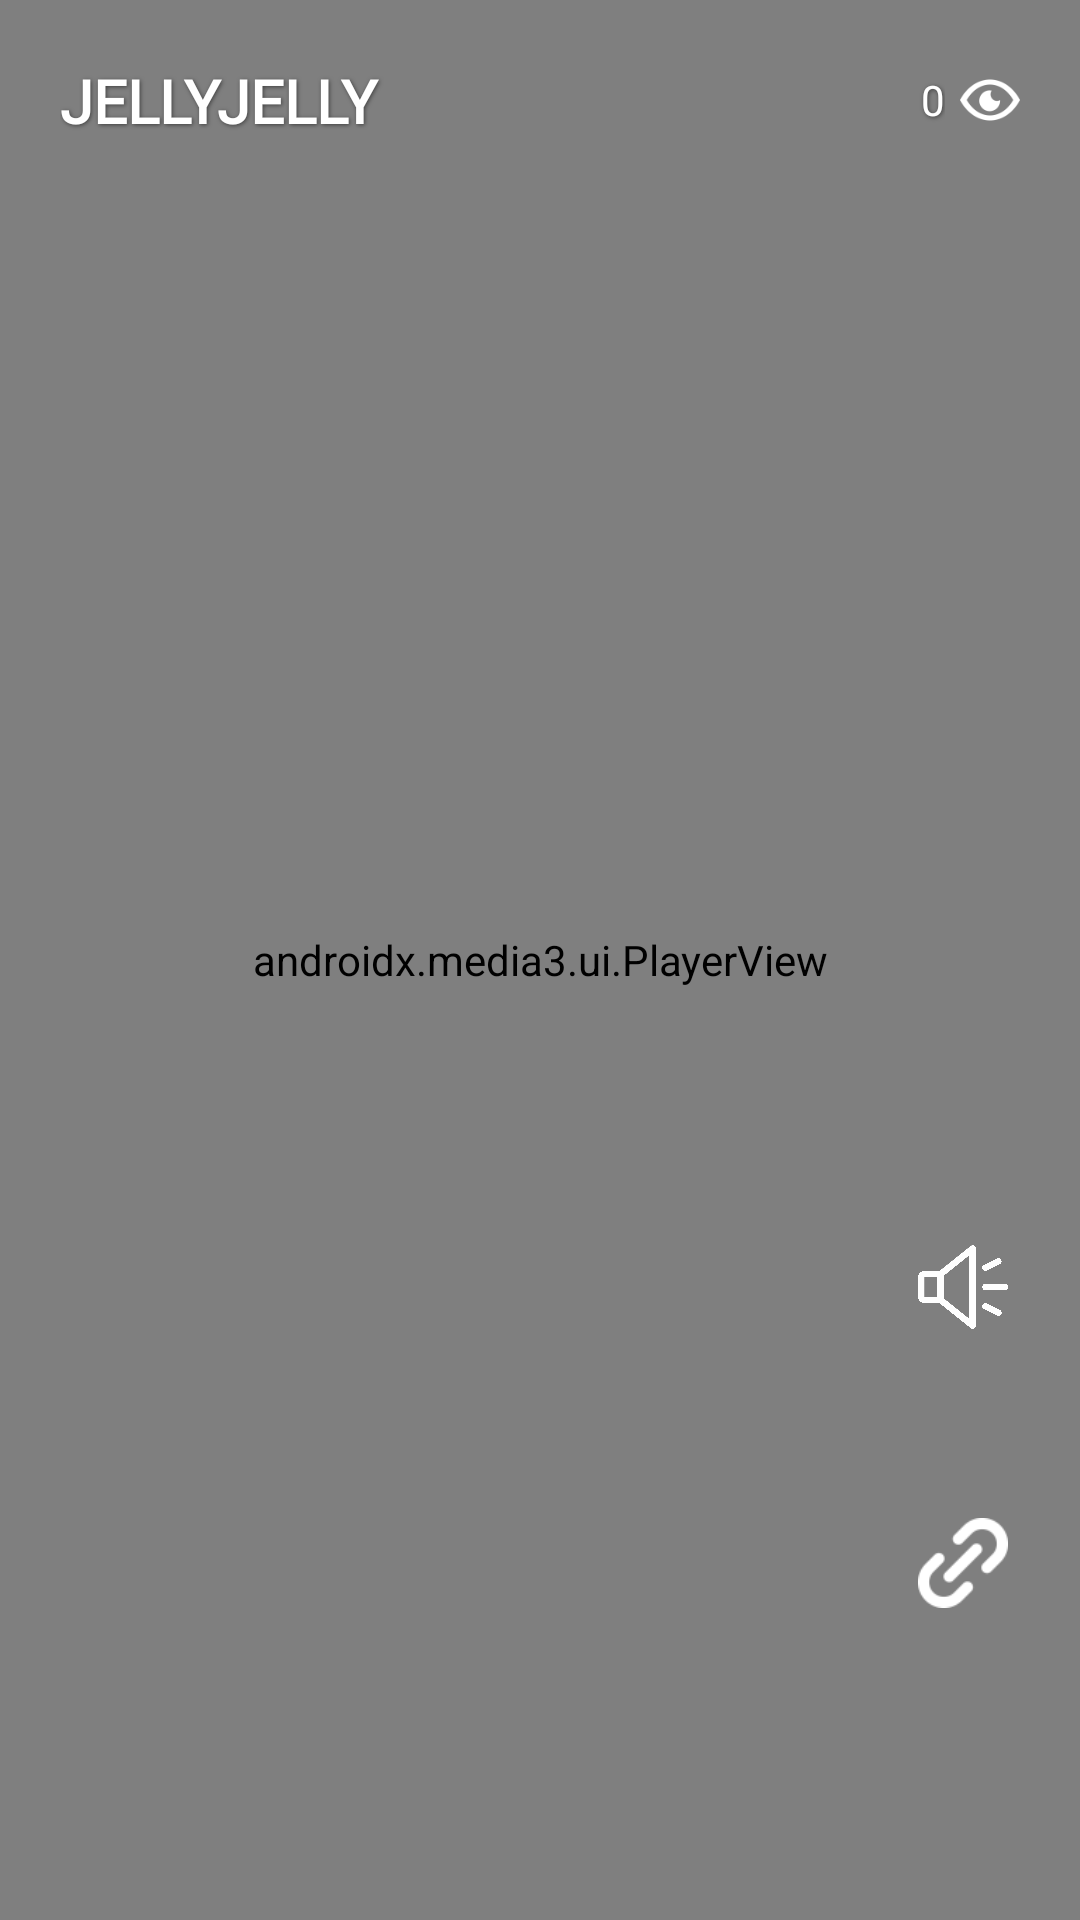

Point at icon controls on the screen. Image size 1080 x 1920, points as (x,y).
Copy Link: (963,1563)
eye: (990,100)
Volume: (963,1287)
